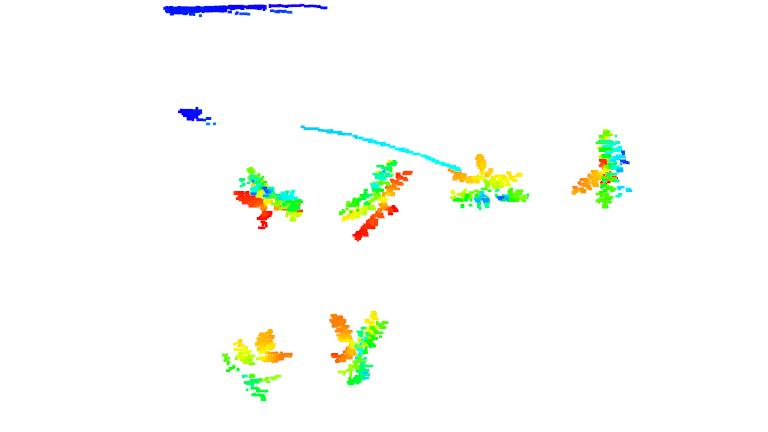chickpea: (339, 158, 417, 240), (221, 325, 298, 404), (566, 127, 634, 215), (229, 167, 307, 232), (451, 151, 529, 215), (328, 304, 387, 387)
